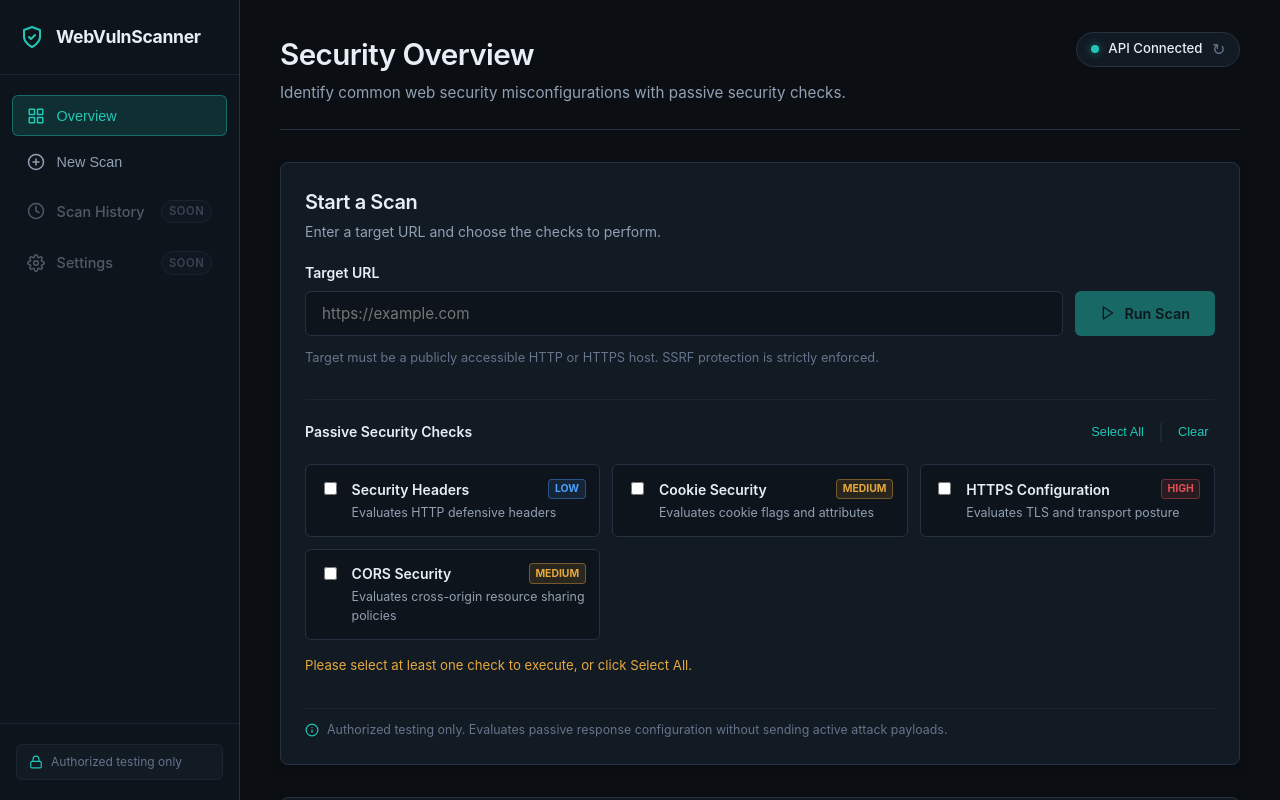
Scenario: WebVulnScanner UI Integration › 15. verifies health check indicator reflects connectivity status
Expected: the element with test id "api-status-badge" shows "API Connected", [1108,40,1202,56]
Step 1. Click the button with test id "recheck-health-button" → click(1219, 49), box [1212,40,1225,59]
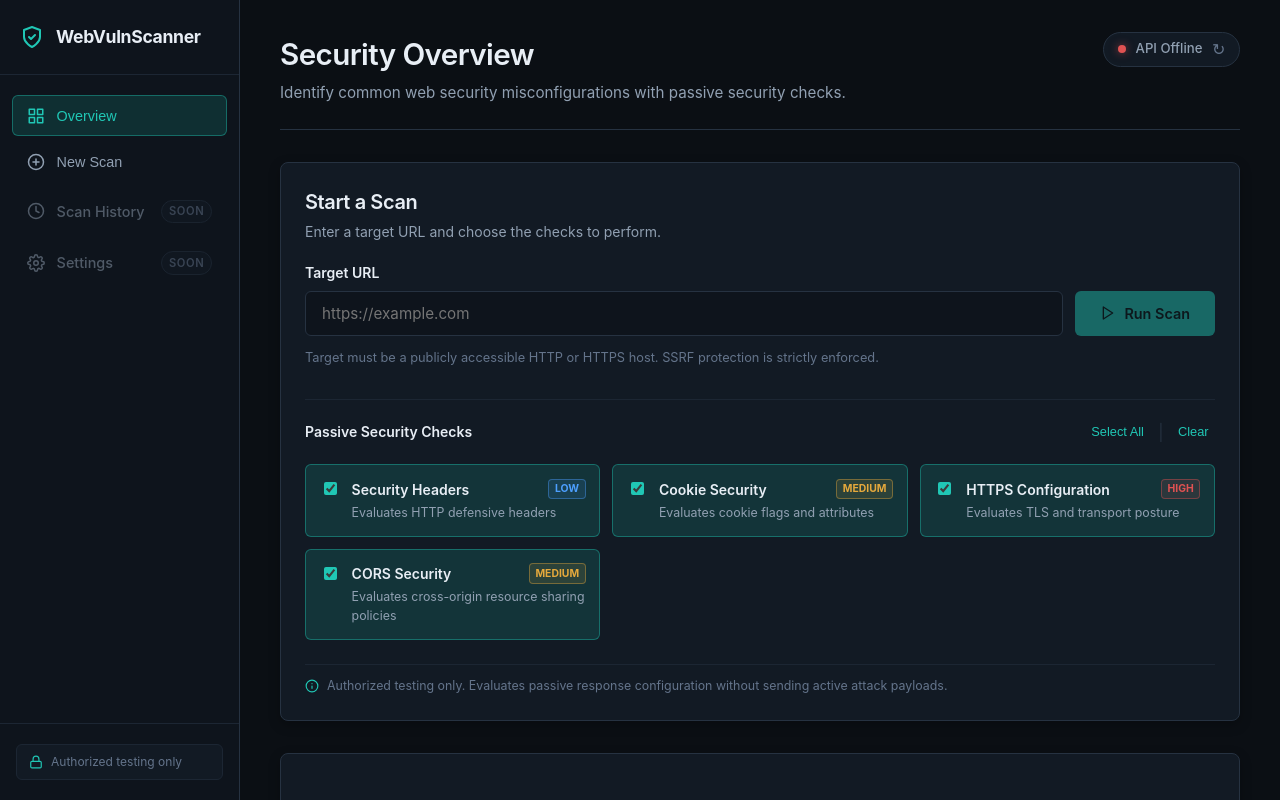
Expected: the element with test id "api-status-badge" shows "API Offline", [1136,40,1202,56]
